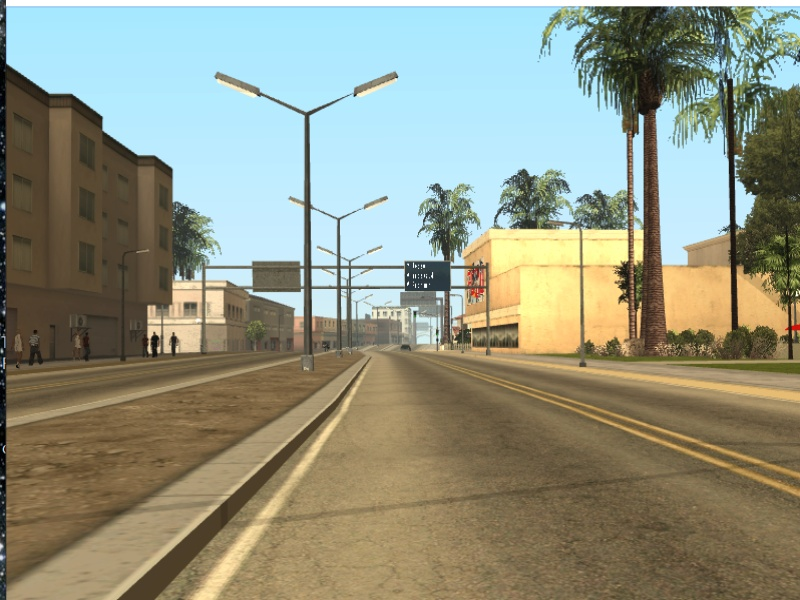person: (28, 331, 43, 368), (13, 331, 25, 369), (72, 328, 83, 360), (167, 331, 181, 356), (84, 327, 93, 360), (152, 330, 160, 359), (142, 333, 148, 357)
pole: (299, 113, 320, 373), (576, 226, 589, 372), (334, 217, 344, 360), (117, 258, 129, 361), (198, 272, 210, 357), (345, 259, 355, 356), (483, 278, 493, 355)
tree: (638, 109, 673, 357)
